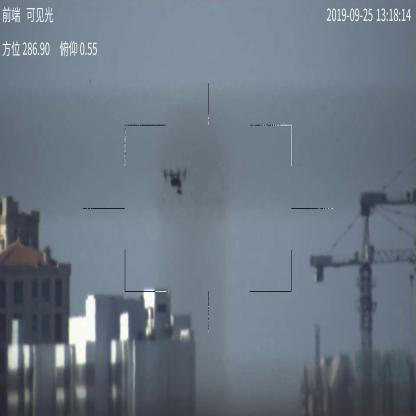uav: (164, 166, 189, 195)
